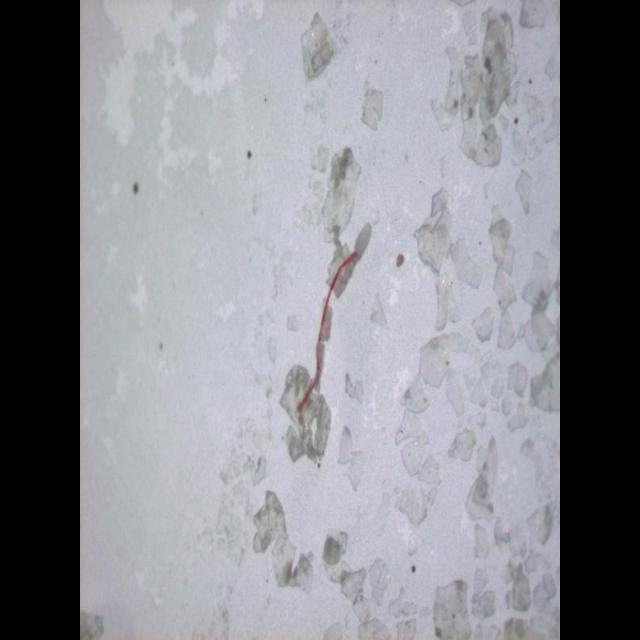Fibre: (294, 246, 362, 418)
